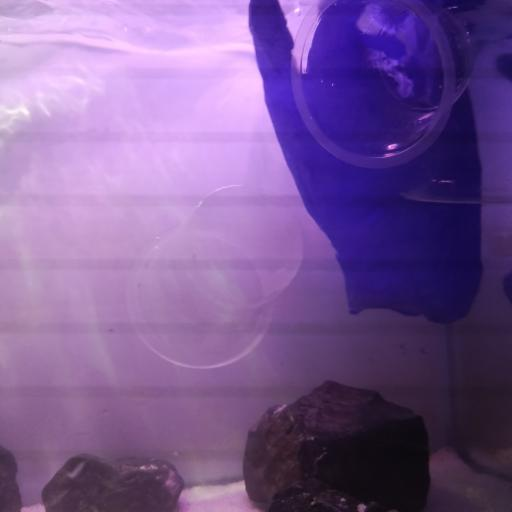plastic_cup: (122, 181, 305, 370), (289, 0, 477, 171), (398, 132, 512, 205)
